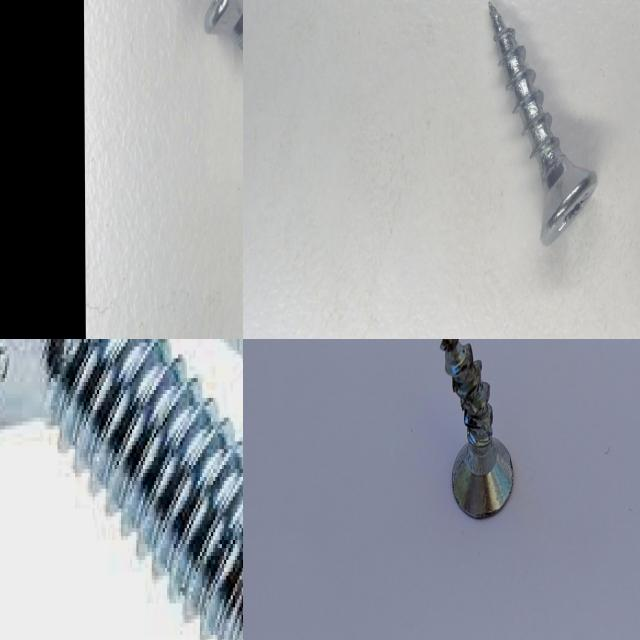Screw: (0, 339, 243, 640), (488, 1, 597, 245), (440, 339, 512, 517)
